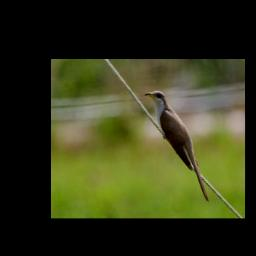Cuckoo: (144, 90, 211, 205)
